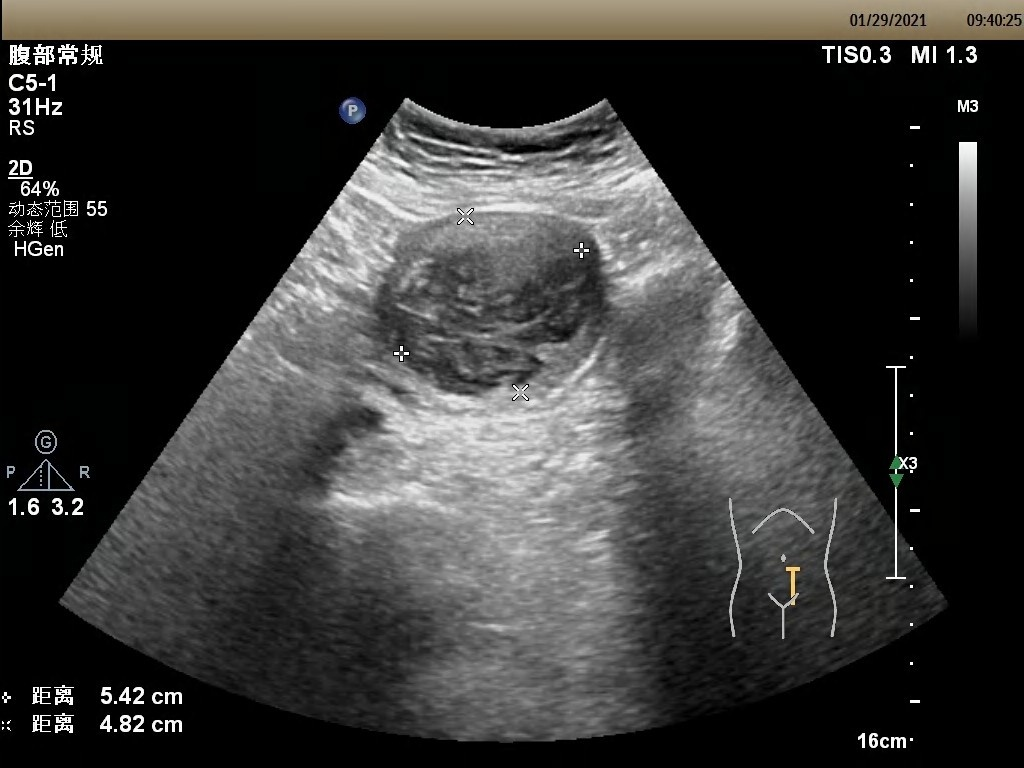肌瘤: (400, 219, 582, 392)
